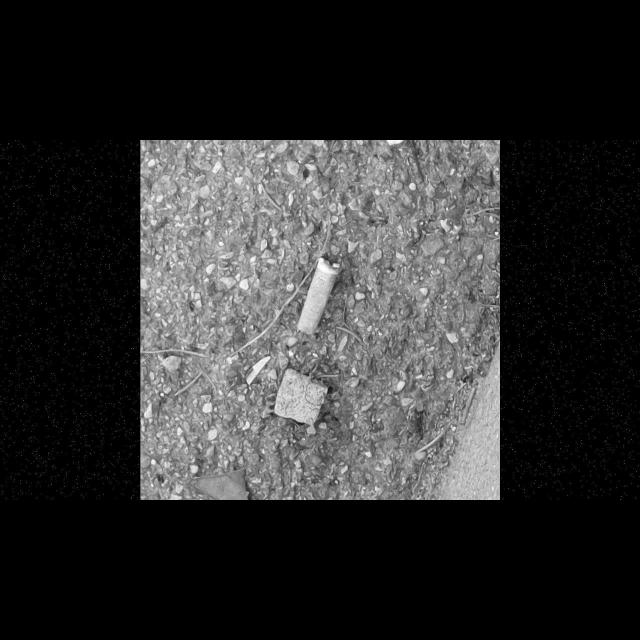cigarette: (296, 256, 342, 335)
